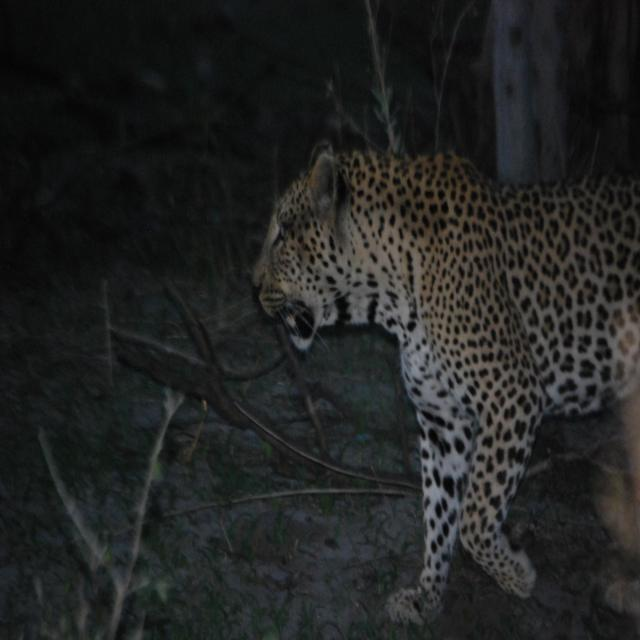Leopard: (249, 146, 640, 630)
